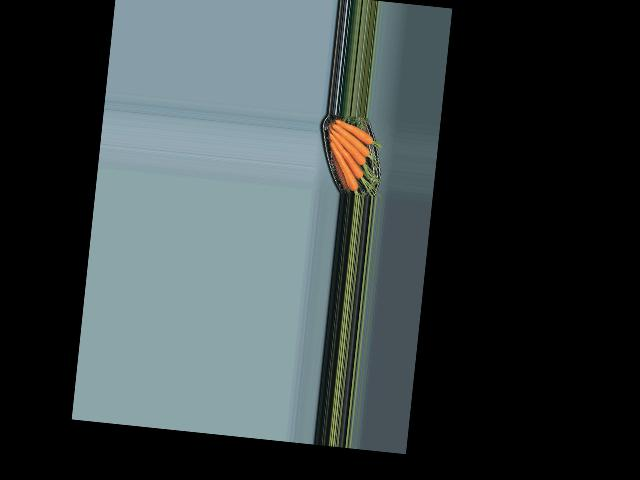carrot: (333, 118, 374, 141)
